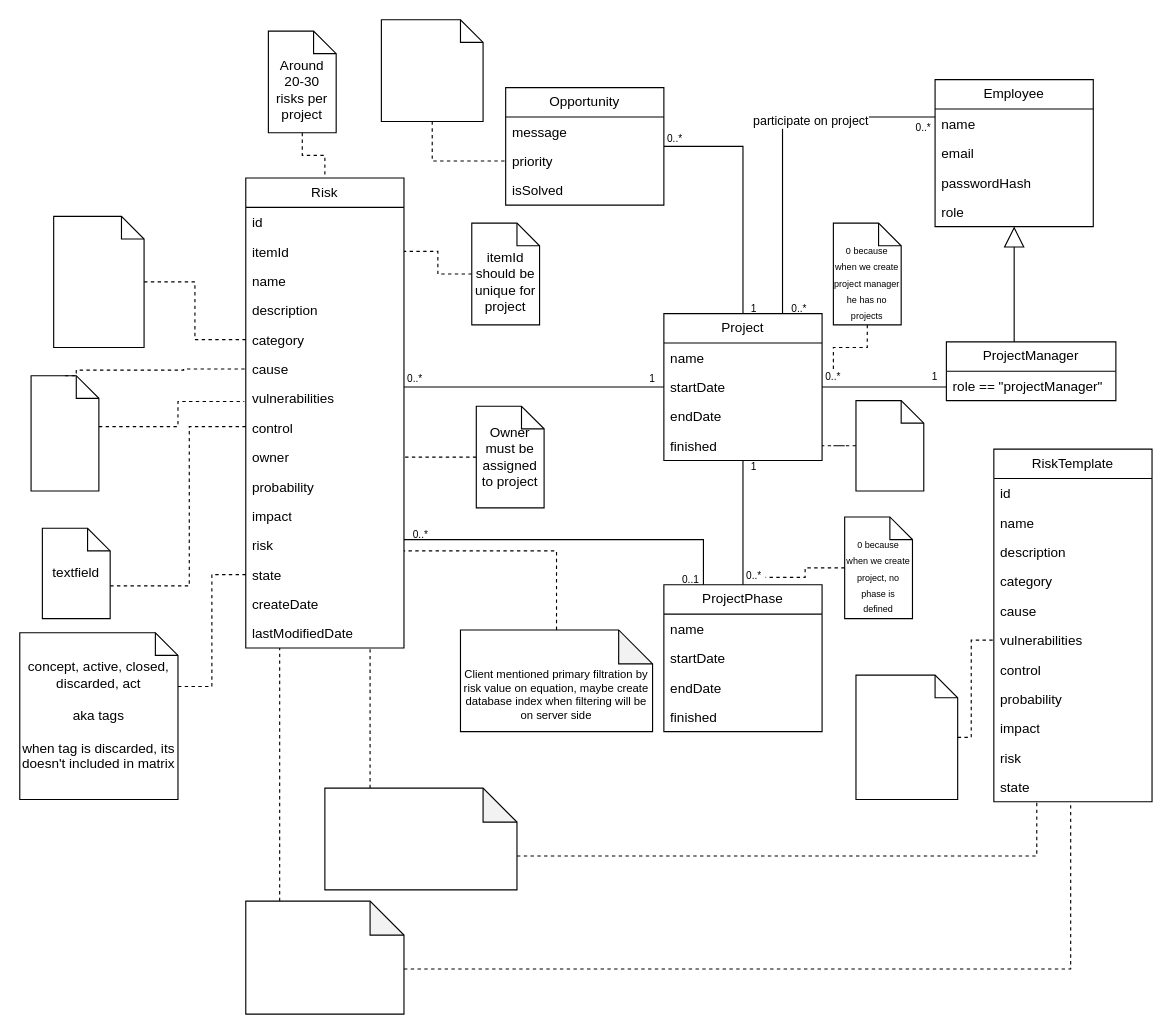
This 1172x1034 diagram has some shape labels left out. Each missing label, with the centre of its shape:
cannot be finished until all phases are finished: (889,445)
distinct list from default form model: (64,433)
distinct list from default form model category of risk: (98,281)
Probablity, Impact ∈ {tiny(1), small(2), medium(3), high(4), critical(5)}: (324,957)
rename to potential, low, medium, high: (431,70)
Risk is calculated: Probablity × Impact Numerical value is defined in brackets: (420,838)
User want to define risk identifier, need to handle templating: (906,736)
